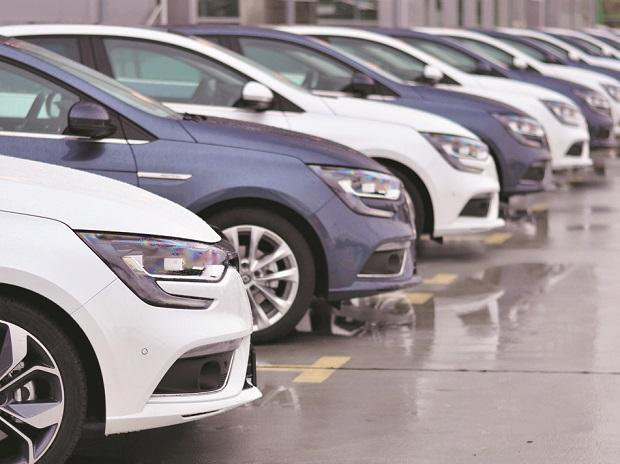car: (1, 29, 421, 329), (14, 18, 502, 241), (1, 146, 268, 462), (166, 20, 554, 200), (271, 12, 591, 184)
